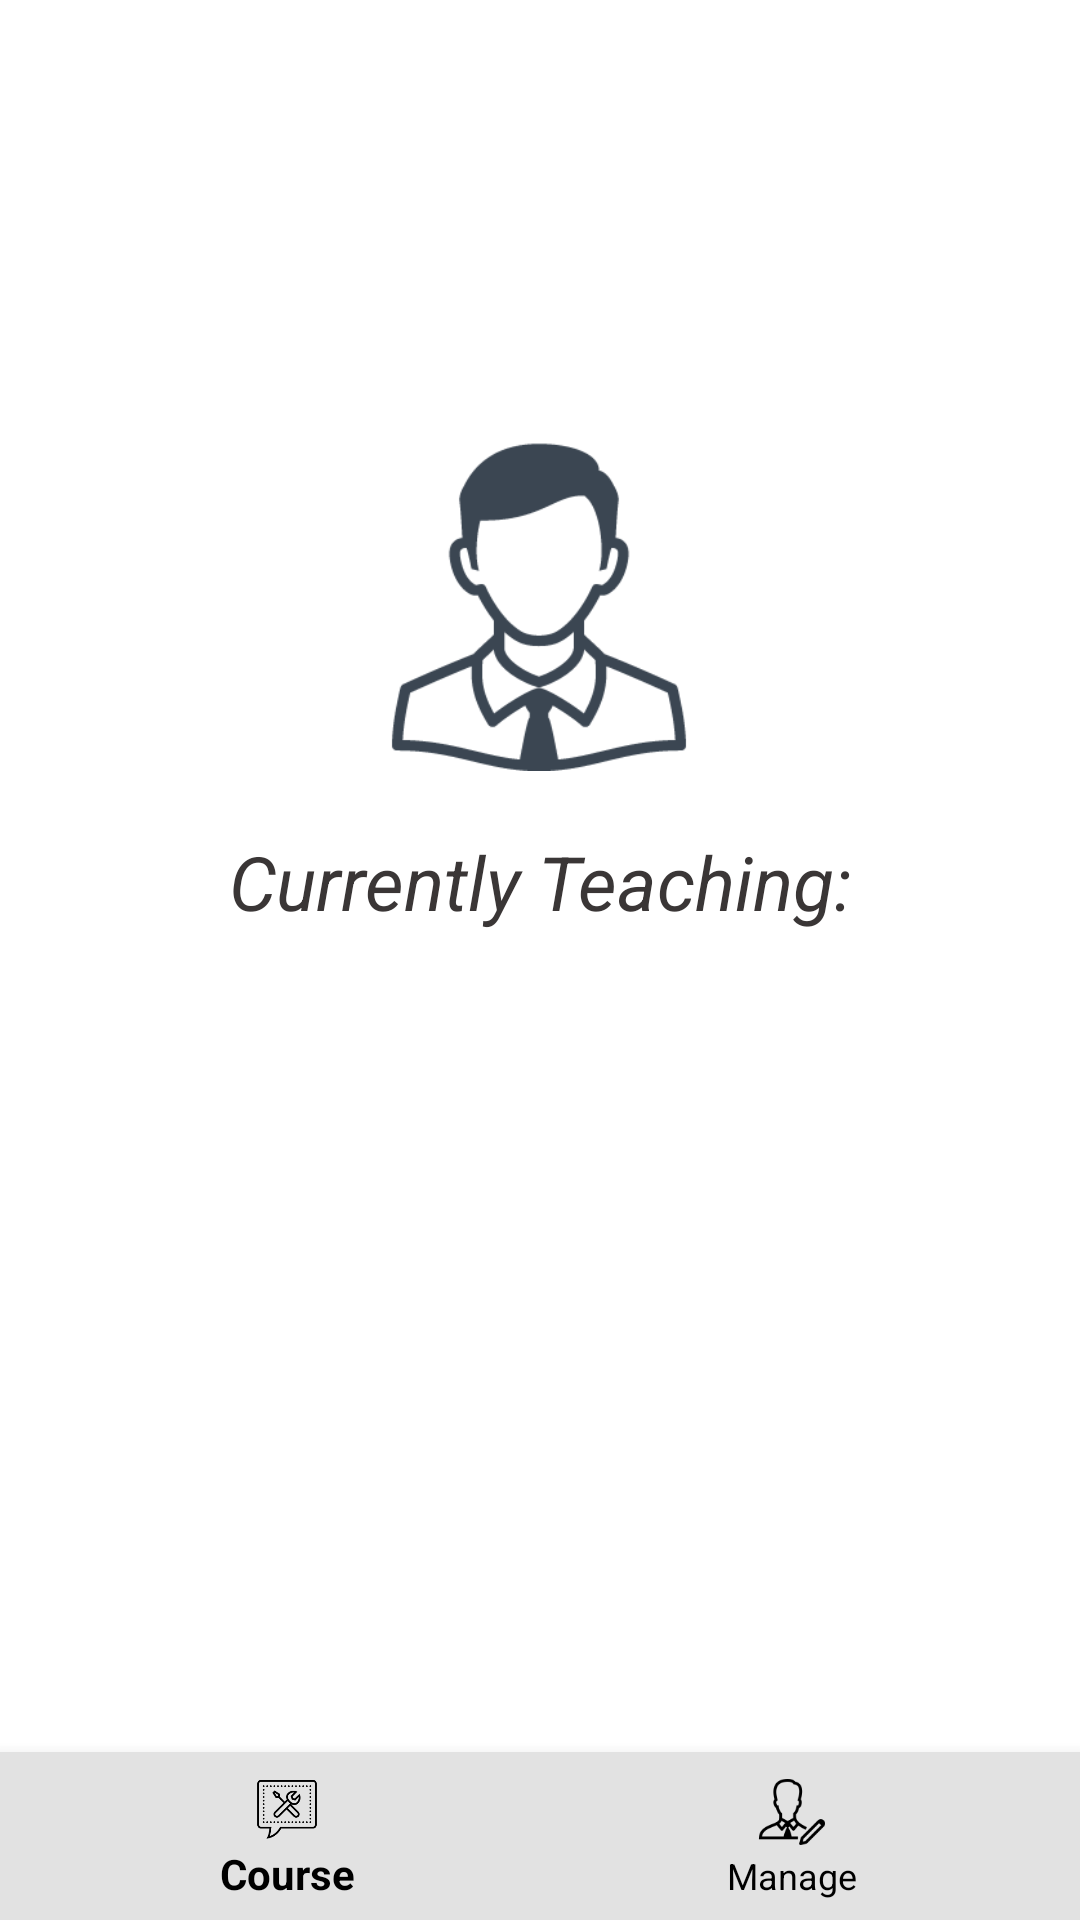

Icons on this 1080w x 1920h Android screen, each with the point to tap as (x,y):
teachericon: (539,607)
